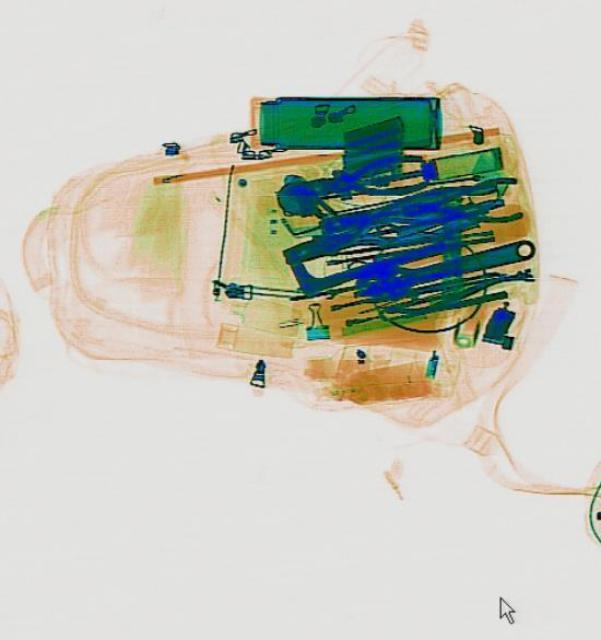Pliers: (280, 148, 427, 212), (396, 172, 521, 234)
Wrench: (348, 226, 537, 308)
